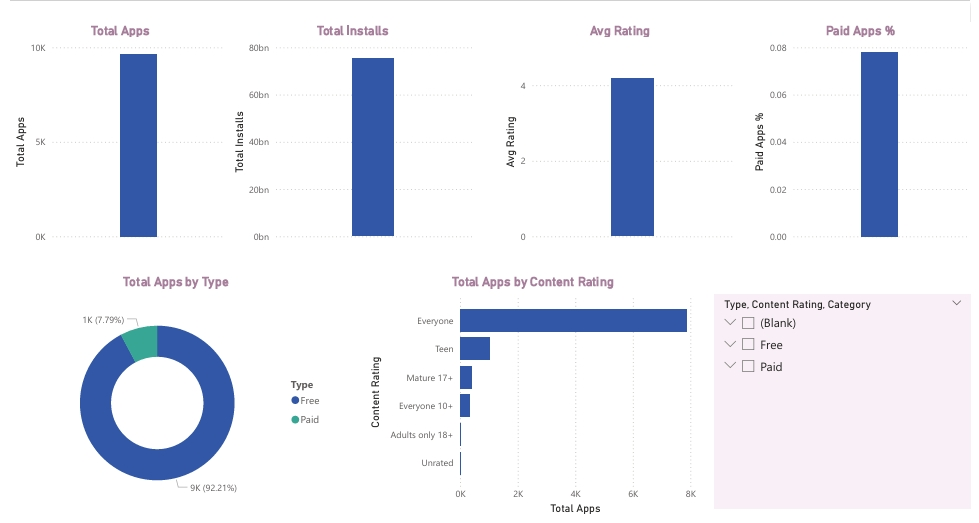

What the dashboard file says about the page in this screenshot:
{"tool":"powerbi","page":{"name":"Overview","canvas":[1280,720],"ordinal":0},"visuals":[{"type":"clusteredColumnChart","fields":{"Y":["PlayStore.Avg Rating"]},"box":[653.5,60.6,316.6,299.8],"z":1},{"type":"clusteredColumnChart","fields":{"Y":["PlayStore.Paid Apps %"]},"box":[985.3,60.6,294.7,299.8],"z":3},{"type":"clusteredColumnChart","fields":{"Y":["PlayStore.Total Installs"]},"box":[291.4,60.6,328.4,299.8],"z":4},{"type":"clusteredColumnChart","fields":{"Y":["PlayStore.Total Apps"]},"box":[0,60.6,291.4,299.8],"z":5},{"type":"donutChart","fields":{"Category":["PlayStore.Type"],"Y":["PlayStore.Total Apps"]},"box":[11.8,395.8,416,325.1],"z":6},{"type":"clusteredBarChart","fields":{"Category":["PlayStore.Content Rating"],"Y":["PlayStore.Total Apps"]},"box":[473.3,395.8,444.6,325.1],"z":7},{"type":"slicer","fields":{"Values":["PlayStore.Type","PlayStore.Content Rating","PlayStore.Category"]},"box":[938.1,422.7,341.9,286.3],"z":8}]}

Visuals, with their boxes on the page's 1280x720 design canvas (x1, y1, x2, y2). These are canvas units, not pixel positions in the 979x523 screenshot, which may show the page scaled, cropped or inside an application window:
clusteredColumnChart - PlayStore.Avg Rating: (654, 61, 970, 360)
clusteredColumnChart - PlayStore.Paid Apps %: (985, 61, 1280, 360)
clusteredColumnChart - PlayStore.Total Installs: (291, 61, 620, 360)
clusteredColumnChart - PlayStore.Total Apps: (0, 61, 291, 360)
donutChart - PlayStore.Type x PlayStore.Total Apps: (12, 396, 428, 721)
clusteredBarChart - PlayStore.Content Rating x PlayStore.Total Apps: (473, 396, 918, 721)
slicer - PlayStore.Type x PlayStore.Content Rating: (938, 423, 1280, 709)
